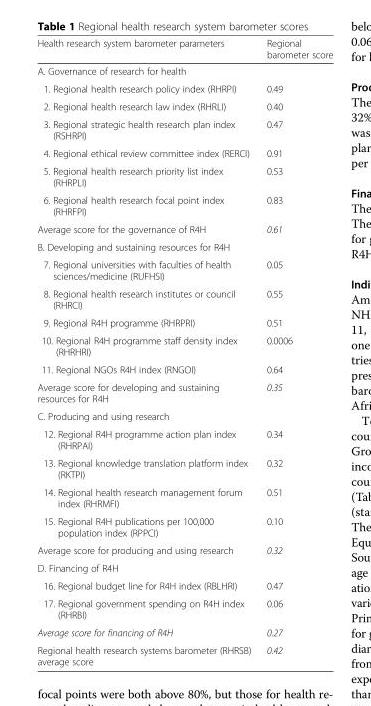table: (36, 37, 332, 666)
table column: (36, 37, 258, 666), (258, 37, 332, 666)
table column header: (36, 37, 332, 62)
table projected row header: (36, 237, 332, 255), (36, 558, 332, 576), (36, 62, 332, 79), (36, 407, 332, 424)
table row: (36, 482, 332, 512), (36, 115, 332, 144), (36, 161, 332, 190), (36, 190, 332, 219), (36, 255, 332, 284), (36, 284, 332, 313), (36, 331, 332, 360), (36, 378, 332, 407), (36, 424, 332, 453), (36, 453, 332, 482), (36, 512, 332, 541), (36, 594, 332, 623), (36, 640, 332, 666), (36, 37, 332, 62), (36, 79, 332, 97), (36, 97, 332, 115), (36, 219, 332, 237), (36, 237, 332, 255), (36, 313, 332, 331), (36, 360, 332, 378), (36, 558, 332, 576), (36, 576, 332, 594), (36, 62, 332, 79), (36, 144, 332, 161), (36, 407, 332, 424), (36, 541, 332, 558), (36, 623, 332, 640)
